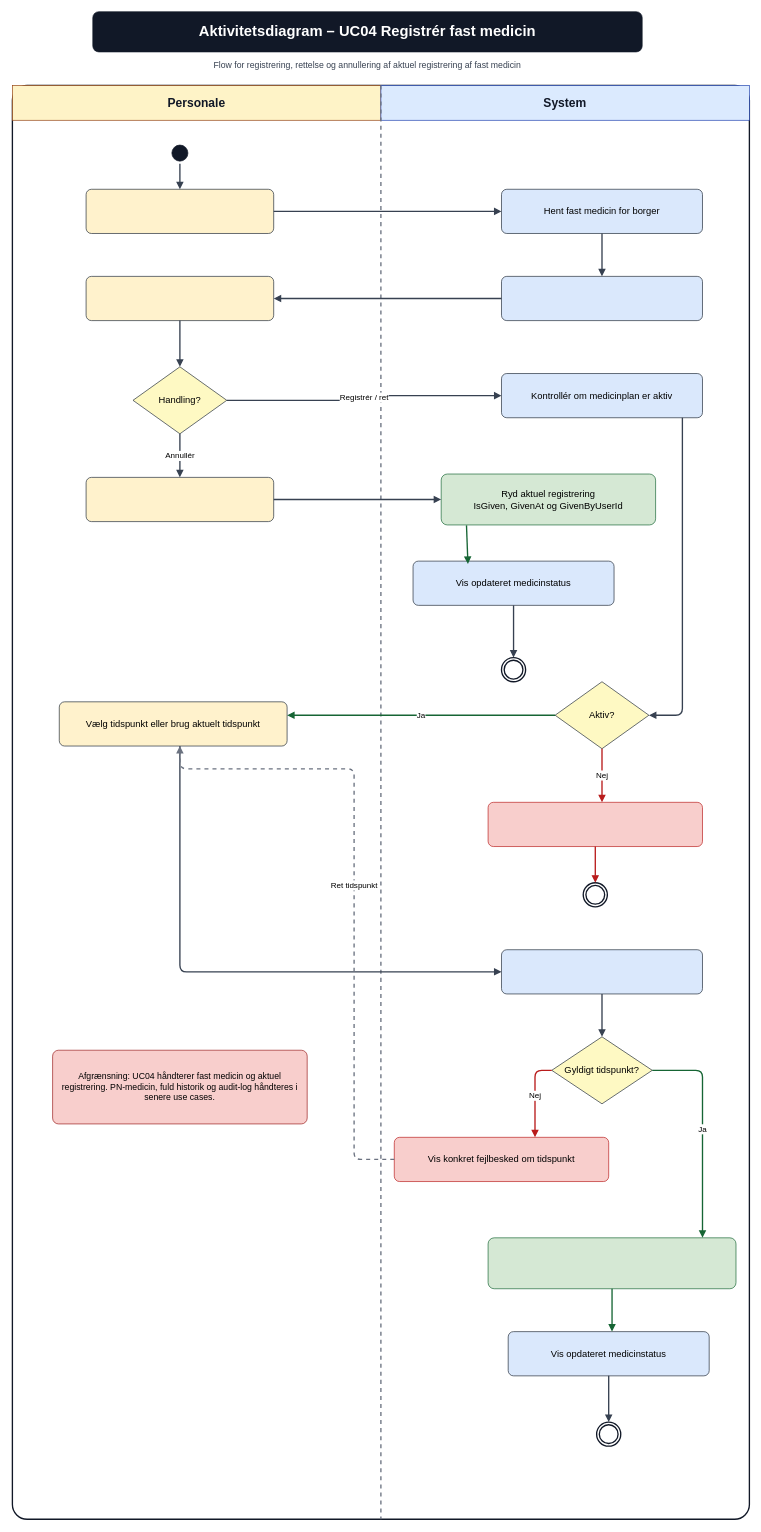
Image size: 761x1532. Some labels were removed from this diagram. Each missing label, with the centre of its shape:
Annullér aktuel registrering: [179,499]
Gem aktuel registrering med tidspunkt og brugerreference: [611,1263]
Validér tidspunkt: [601,971]
Vis besked: medicinplanen er inaktiv: [594,824]
Vis fast medicin og medicinstatus: [601,298]
Vælg handling for fast medicin: [179,298]
Åbn borger: [179,211]
